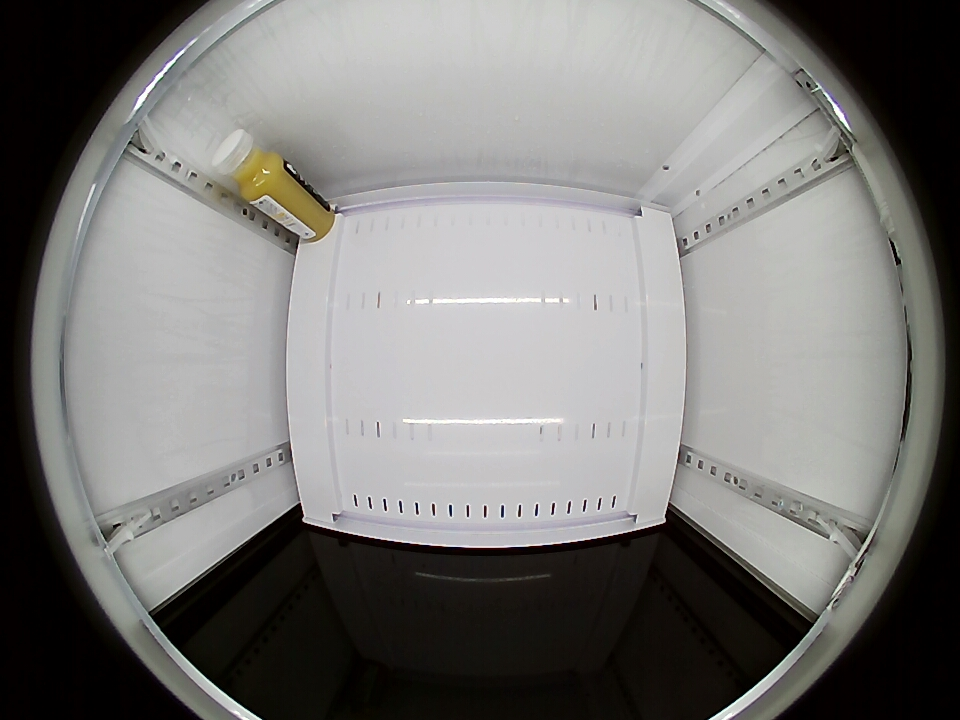nfc: (211, 130, 287, 204)
